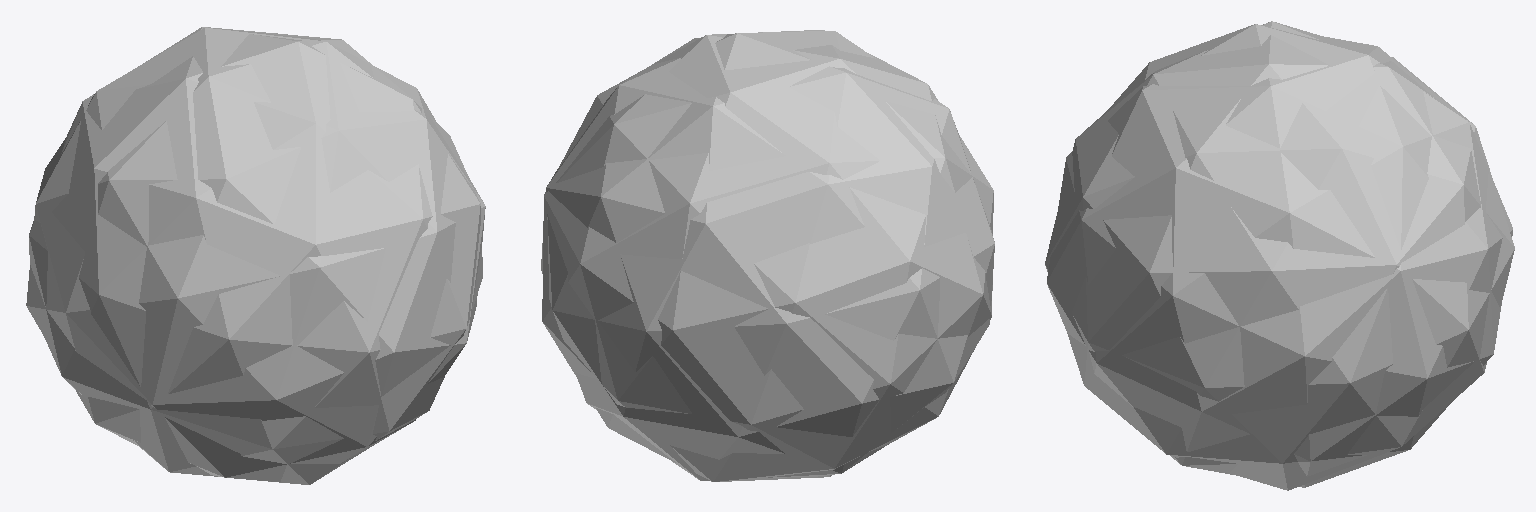
The model's file is solar_l.obj.
3 renders of one model, left to right at view 1: azimuth 30°, elevation 25°; view 2: azimuth 150°, elevation 25°; view 3: azimuth 270°, elevation 25°, orthographic.
Size of the model in its own units: 43.94 by 43.42 by 44.14.